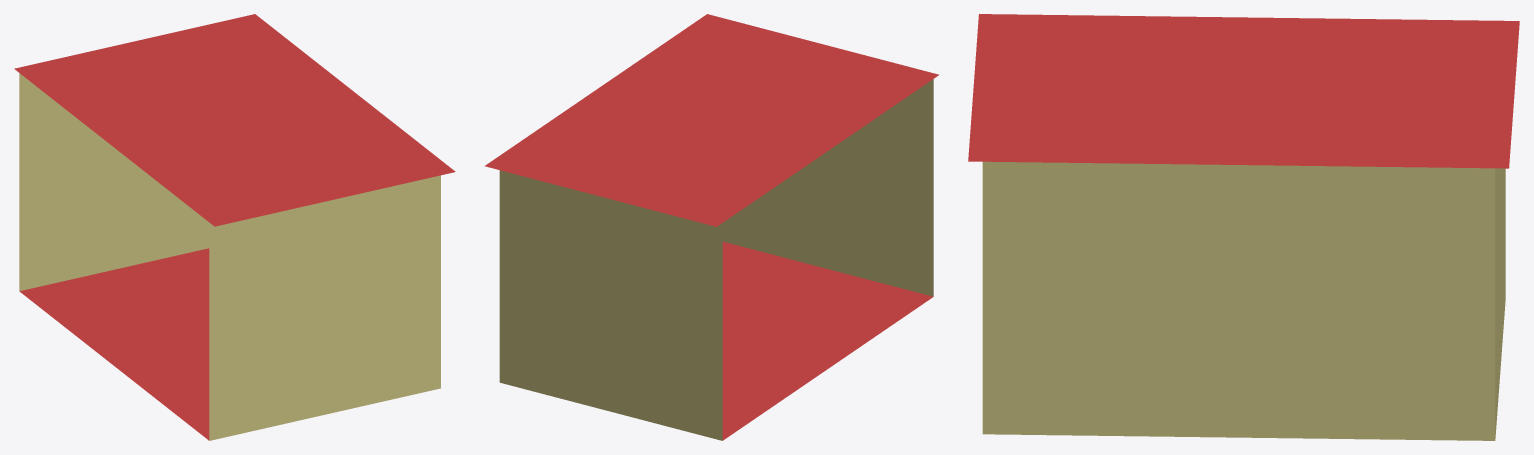
3 views of the same model, side by side, from view 1: azimuth 30°, elevation 25°; view 2: azimuth 150°, elevation 25°; view 3: azimuth 270°, elevation 25° (orthographic). The views are drawn at different scales.
Size of the model in its own units: 6.42 by 9.69 by 5.4.
